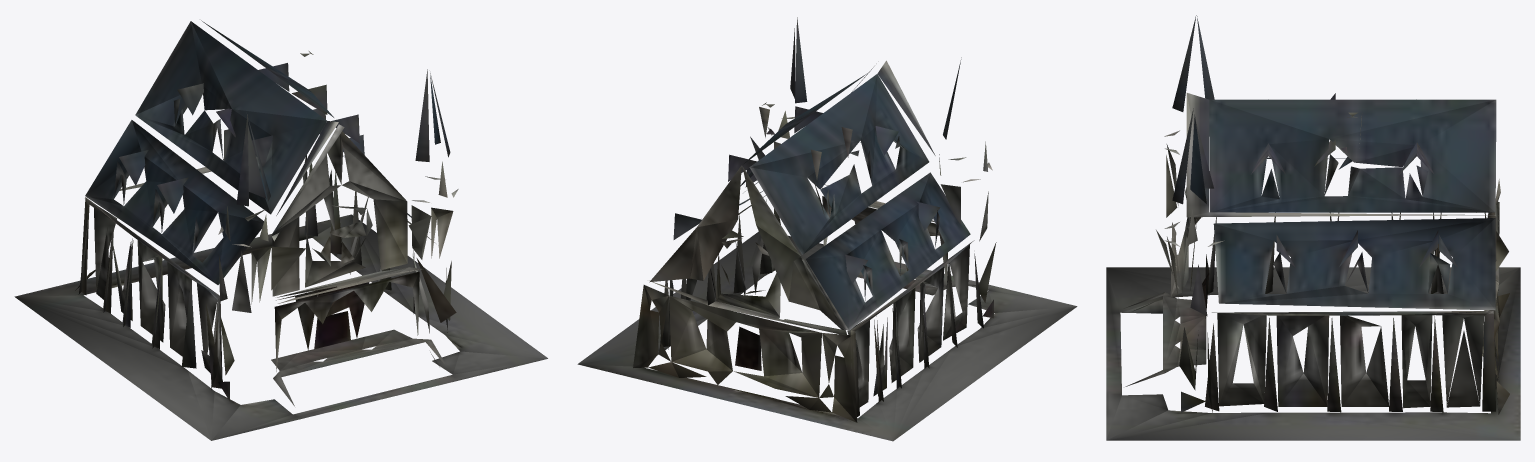
The model's file is odeon.glb.
3 views of the same model, side by side, from view 1: azimuth 30°, elevation 25°; view 2: azimuth 150°, elevation 25°; view 3: azimuth 270°, elevation 25° (orthographic). The views are drawn at different scales.
Parts seen in each view (by area): view 1: tripo_node_991dd037-5aa2-4723-a536-df089; view 2: tripo_node_991dd037-5aa2-4723-a536-df089; view 3: tripo_node_991dd037-5aa2-4723-a536-df089.
Part boxes in pixels (x1,y1,x2,y2): tripo_node_991dd037-5aa2-4723-a536-df089: (14,20,547,440); tripo_node_991dd037-5aa2-4723-a536-df089: (577,17,1077,441); tripo_node_991dd037-5aa2-4723-a536-df089: (1106,15,1520,440).
Bounding box in the file's own units: 36.15 × 29.32 × 36.58.
1 material, 1 textured.
